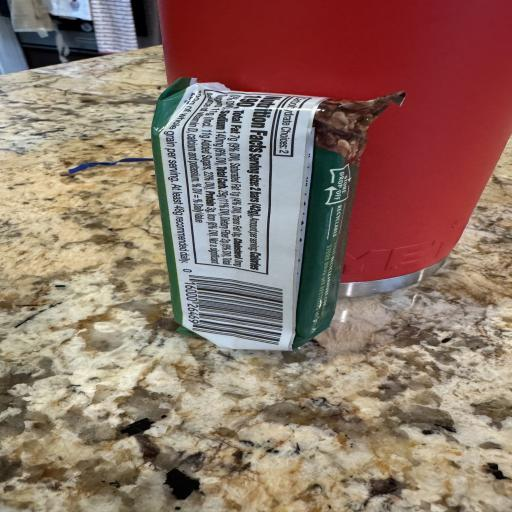granola: (153, 79, 404, 350)
